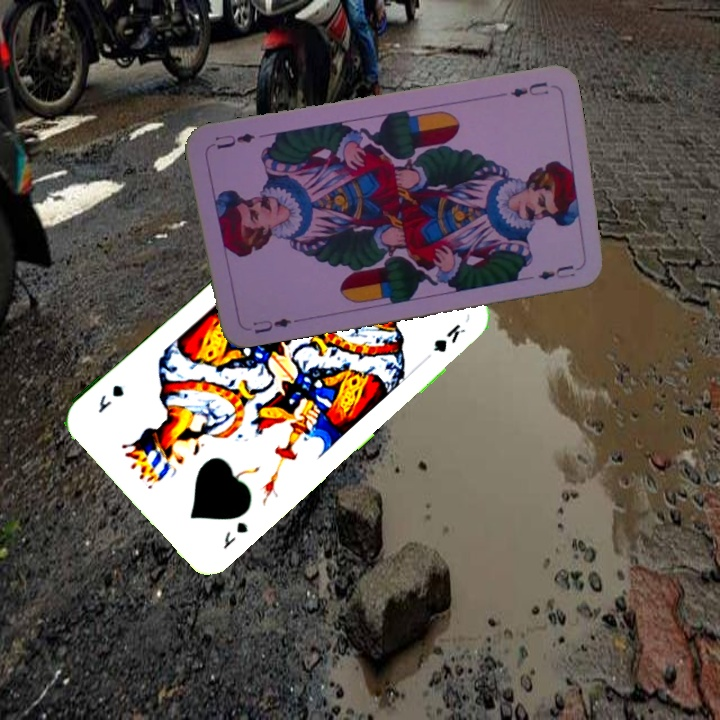EU: (248, 314, 294, 337), (507, 77, 552, 100)
GK: (219, 517, 251, 552)
